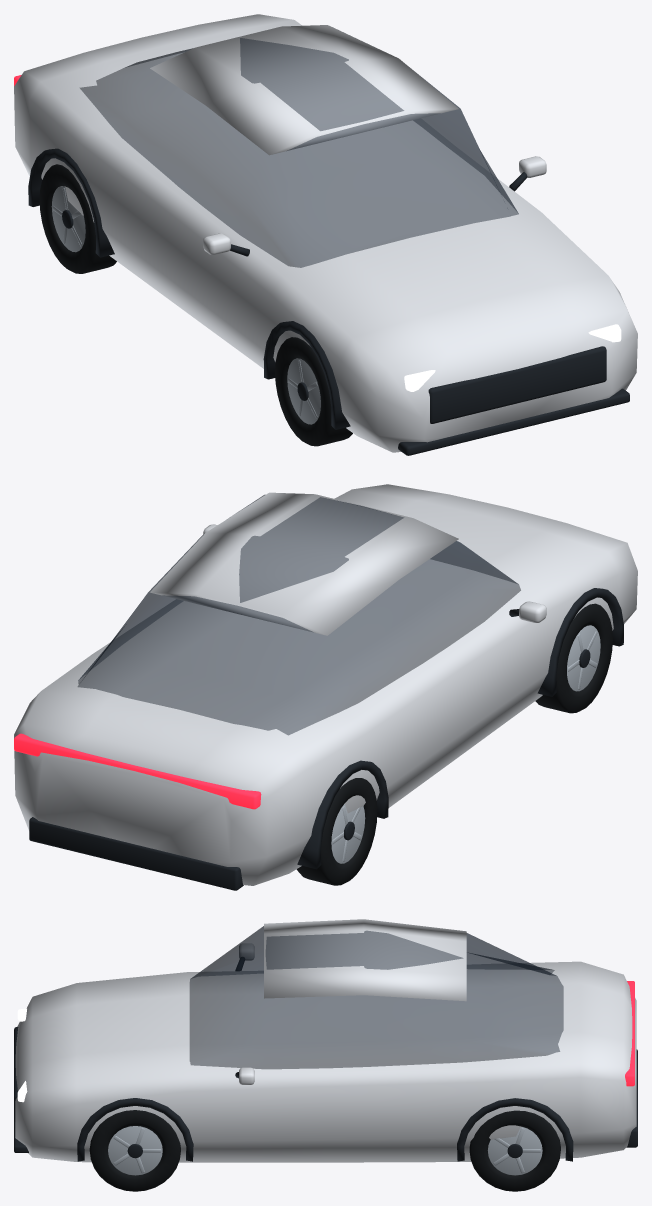
File: kl_sedan.glb
3 renders of one model, top to bottom at view 1: azimuth 30°, elevation 25°; view 2: azimuth 150°, elevation 25°; view 3: azimuth 270°, elevation 25°, orthographic. The views are drawn at different scales.
Visible parts, largest first — view 1: Sedan_Sculpted_Body, Sedan_Cabin_Greenhouse, Sedan_Roof_Cap, Sedan_Front_Grille, Sedan_FL_Tire, Sedan_RL_Tire, Sedan_Front_Splitter, Sedan_FL_Arch, Sedan_RL_Arch, Sedan_FL_RimLip, Sedan_RL_RimLip; view 2: Sedan_Sculpted_Body, Sedan_Cabin_Greenhouse, Sedan_Roof_Cap, Sedan_Rear_Diffuser, Sedan_FL_Tire, Sedan_RL_Tire, Sedan_Rear_LightBar, Sedan_RL_Arch, Sedan_FL_Arch, Sedan_FL_RimLip, Sedan_RL_RimLip; view 3: Sedan_Sculpted_Body, Sedan_Cabin_Greenhouse, Sedan_Roof_Cap, Sedan_FR_Tire, Sedan_RR_Tire, Sedan_FR_RimLip, Sedan_FR_Arch, Sedan_RR_Arch, Sedan_RR_RimLip, Sedan_Rear_LightBar.
Boxes of the visible parts, bbox=[...] form: Sedan_Sculpted_Body: bbox=[14, 14, 637, 452]; Sedan_Cabin_Greenhouse: bbox=[80, 38, 518, 267]; Sedan_Roof_Cap: bbox=[150, 25, 458, 155]; Sedan_Front_Grille: bbox=[428, 346, 606, 423]; Sedan_FL_Tire: bbox=[275, 337, 352, 446]; Sedan_RL_Tire: bbox=[39, 164, 116, 273]; Sedan_Front_Splitter: bbox=[398, 388, 629, 455]; Sedan_FL_Arch: bbox=[263, 321, 350, 429]; Sedan_RL_Arch: bbox=[28, 148, 114, 257]; Sedan_FL_RimLip: bbox=[287, 358, 320, 424]; Sedan_RL_RimLip: bbox=[51, 186, 85, 252]; Sedan_Sculpted_Body: bbox=[14, 484, 637, 885]; Sedan_Cabin_Greenhouse: bbox=[78, 495, 520, 735]; Sedan_Roof_Cap: bbox=[150, 492, 458, 635]; Sedan_Rear_Diffuser: bbox=[29, 817, 243, 890]; Sedan_FL_Tire: bbox=[535, 603, 612, 713]; Sedan_RL_Tire: bbox=[296, 778, 377, 885]; Sedan_Rear_LightBar: bbox=[14, 733, 261, 809]; Sedan_RL_Arch: bbox=[297, 760, 388, 869]; Sedan_FL_Arch: bbox=[537, 588, 623, 696]; Sedan_FL_RimLip: bbox=[567, 625, 600, 691]; Sedan_RL_RimLip: bbox=[331, 804, 365, 863]; Sedan_Sculpted_Body: bbox=[15, 961, 636, 1162]; Sedan_Cabin_Greenhouse: bbox=[190, 926, 563, 1068]; Sedan_Roof_Cap: bbox=[264, 919, 466, 1001]; Sedan_FR_Tire: bbox=[89, 1110, 180, 1191]; Sedan_RR_Tire: bbox=[469, 1110, 560, 1191]; Sedan_FR_RimLip: bbox=[108, 1126, 162, 1175]; Sedan_FR_Arch: bbox=[77, 1098, 193, 1161]; Sedan_RR_Arch: bbox=[457, 1098, 573, 1161]; Sedan_RR_RimLip: bbox=[487, 1127, 542, 1175]; Sedan_Rear_LightBar: bbox=[625, 981, 634, 1086].
Size of the model in its own units: 2.2 by 1.46 by 4.37.
